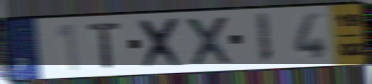1: (56, 23, 80, 72)
4: (292, 12, 331, 62)
I: (254, 12, 274, 66)
T: (86, 20, 124, 70)
X: (183, 14, 236, 68), (136, 16, 188, 71)
